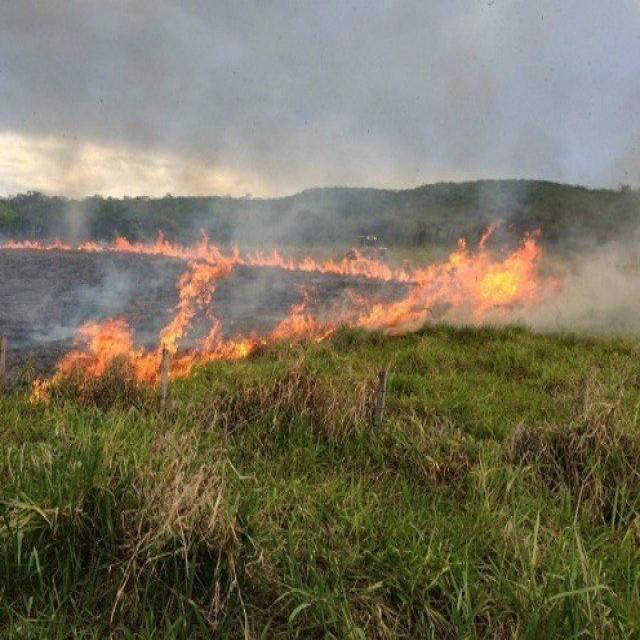Fire: (284, 232, 544, 338), (164, 259, 234, 377), (4, 236, 292, 264), (48, 315, 162, 384)
Smoke: (547, 226, 640, 336)
